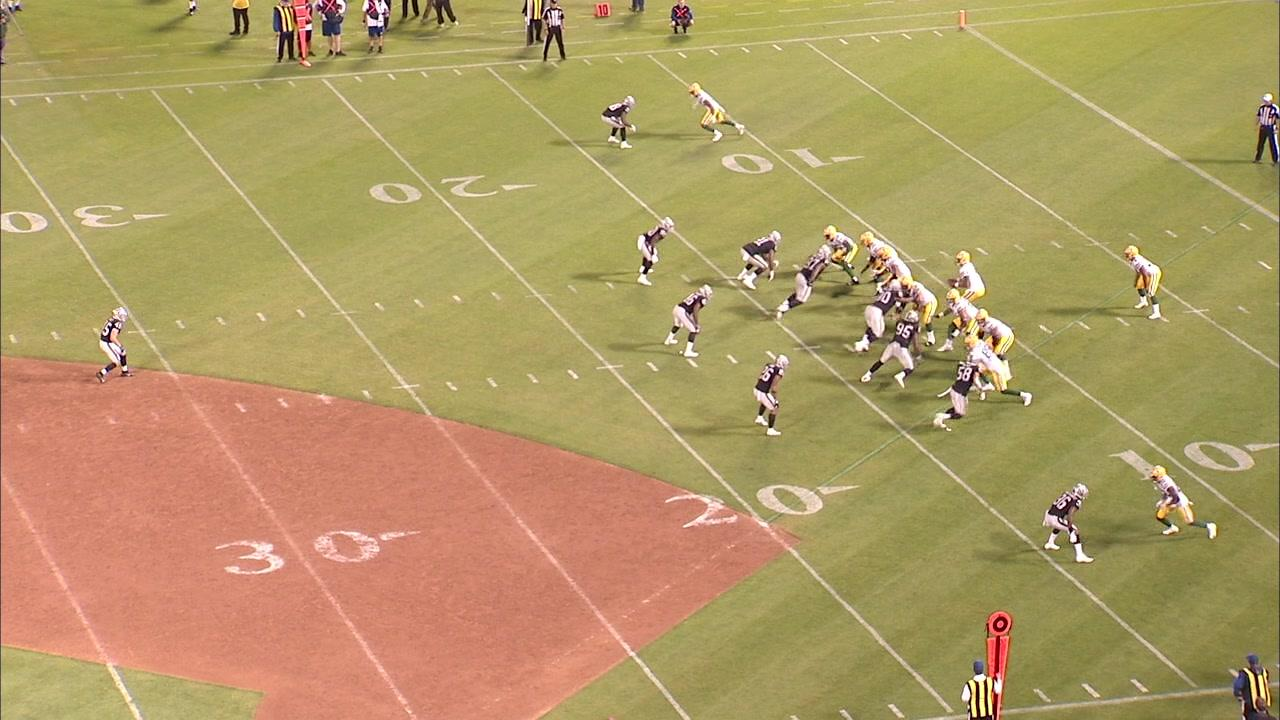defense: (657, 281, 715, 364), (1043, 474, 1091, 562), (866, 312, 922, 387), (780, 247, 833, 319), (754, 351, 794, 441), (630, 216, 678, 291), (854, 283, 901, 352), (95, 305, 132, 385), (936, 359, 977, 431), (738, 227, 782, 294), (601, 95, 643, 152)
oline: (974, 310, 1015, 377), (939, 290, 977, 354), (902, 277, 937, 346), (857, 229, 896, 278), (874, 252, 911, 299)
qb: (951, 248, 987, 302)
ref: (1250, 89, 1280, 170), (537, 0, 570, 66)
skill: (677, 77, 751, 143), (1152, 466, 1218, 538), (963, 336, 1031, 404), (1124, 241, 1164, 322), (825, 224, 857, 276)
